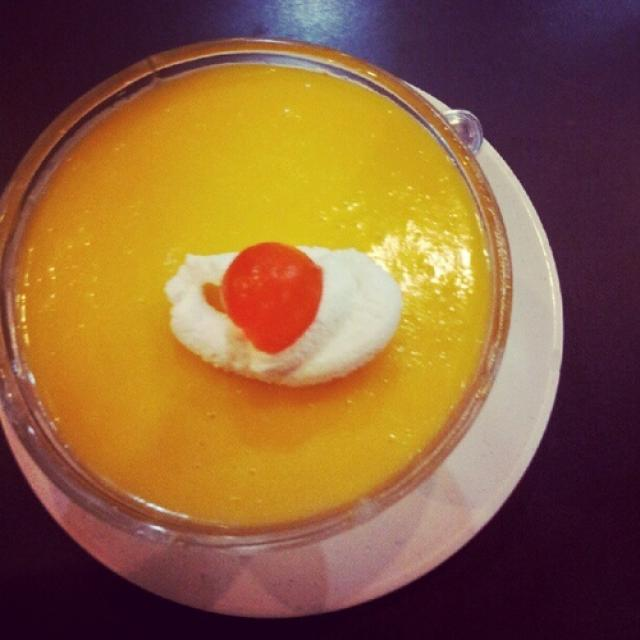蛋糕甜品: (4, 23, 581, 626)
